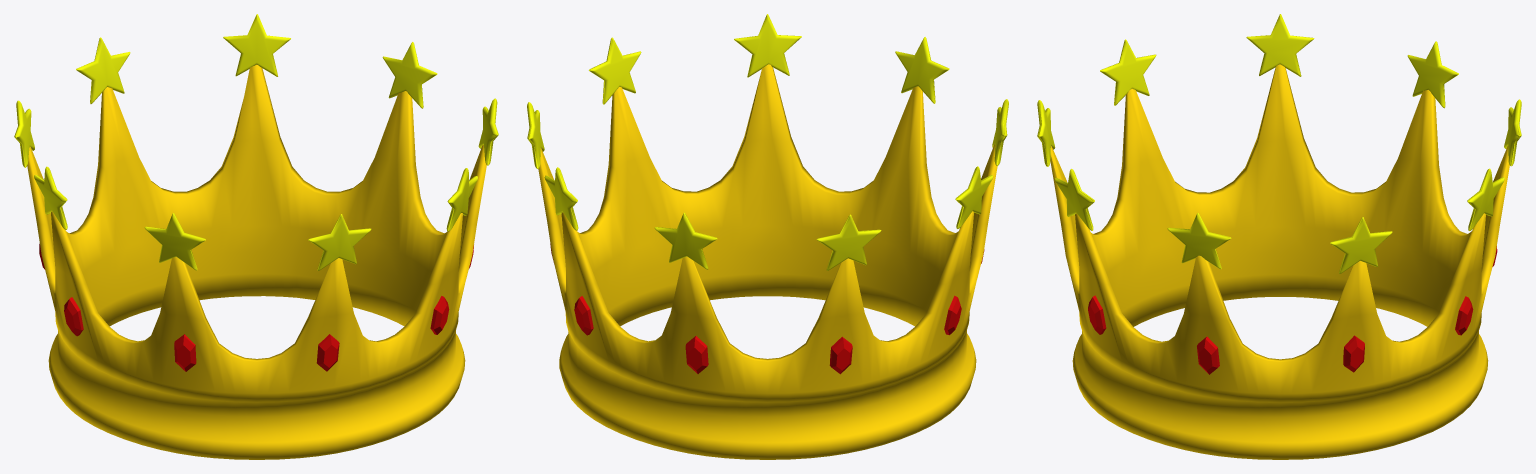
File: king_crown.glb
3 renders of one model, left to right at view 1: azimuth 30°, elevation 25°; view 2: azimuth 150°, elevation 25°; view 3: azimuth 270°, elevation 25°, orthographic.
Visible parts, largest first — view 1: king; view 2: king; view 3: king.
Boxes of the visible parts, bbox=[...] form: king: bbox=[14, 14, 498, 459]; king: bbox=[527, 14, 1008, 459]; king: bbox=[1037, 14, 1521, 459].
Bounding box in the file's own units: 25.6 × 15.24 × 25.75.
